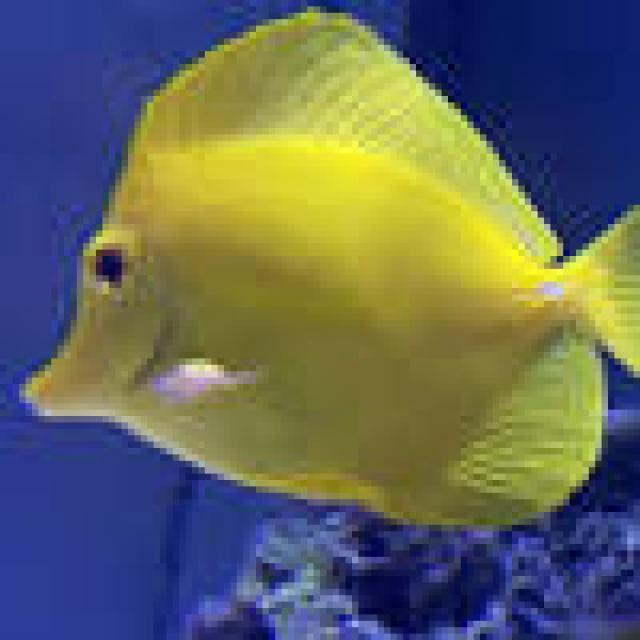YellowTang: (6, 0, 640, 531)
